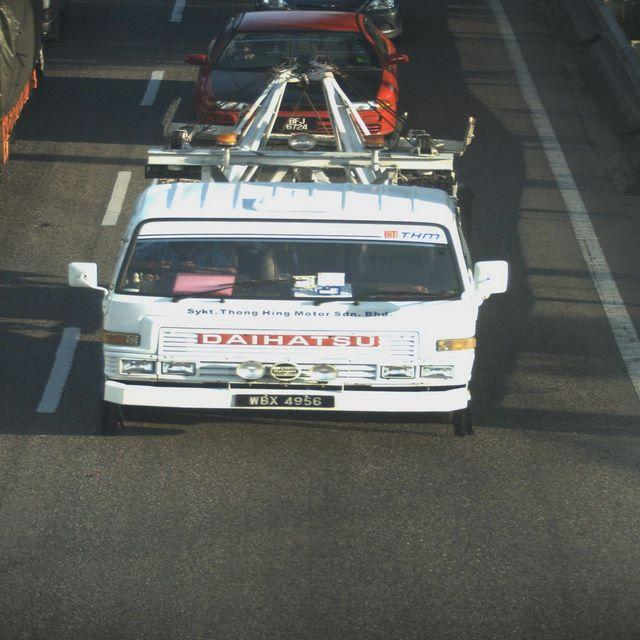License_Plate: (230, 383, 342, 421)
lorry: (78, 116, 524, 462)
